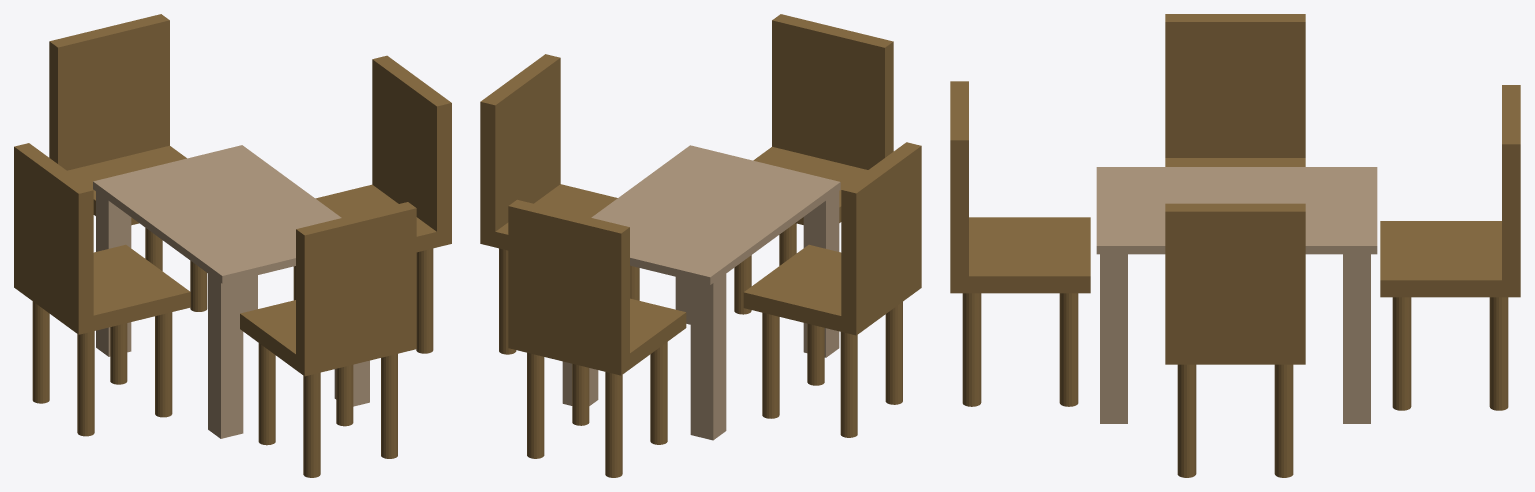
Rendered from Dazzling Vihelmo-Kasi.glb.
The picture shows the model from 3 angles, left to right: view 1: azimuth 30°, elevation 25°; view 2: azimuth 150°, elevation 25°; view 3: azimuth 270°, elevation 25°; orthographic projection. The views are drawn at different scales.
Visible parts, largest first — view 1: Mesh_Mesh_head_geo.001_lambert2SG.001; view 2: Mesh_Mesh_head_geo.001_lambert2SG.001; view 3: Mesh_Mesh_head_geo.001_lambert2SG.001.
Boxes of the visible parts, x1,y1,x2,y2 form: Mesh_Mesh_head_geo.001_lambert2SG.001: [14, 14, 451, 477]; Mesh_Mesh_head_geo.001_lambert2SG.001: [480, 14, 921, 477]; Mesh_Mesh_head_geo.001_lambert2SG.001: [950, 14, 1520, 477].
Size of the model in its own units: 0.05 by 0.0321 by 0.061.
